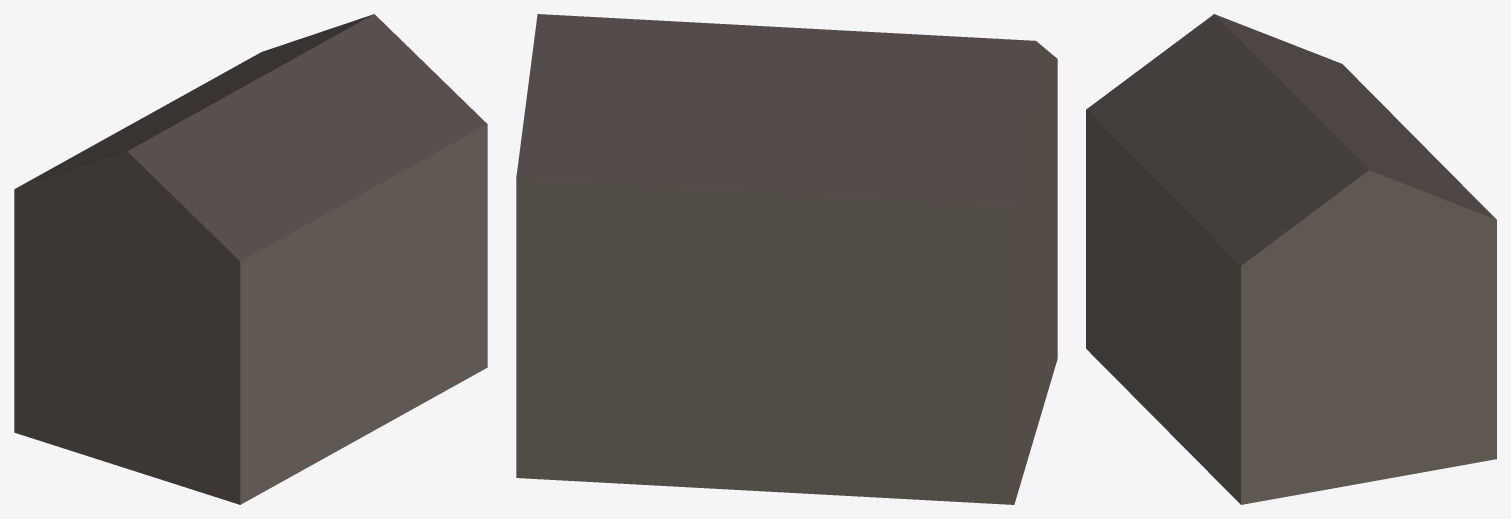
The picture shows the model from 3 angles, left to right: view 1: azimuth 30°, elevation 25°; view 2: azimuth 150°, elevation 25°; view 3: azimuth 270°, elevation 25°; orthographic projection. The views are drawn at different scales.
Parts seen in each view (by area): view 1: HP-w776801022; view 2: HP-w776801022; view 3: HP-w776801022.
Part boxes in pixels (<box>): HP-w776801022: <box>14,14,487,504</box>; HP-w776801022: <box>516,14,1057,504</box>; HP-w776801022: <box>1086,14,1496,504</box>.
Size of the model in its own units: 10.87 by 7.83 by 9.35.
